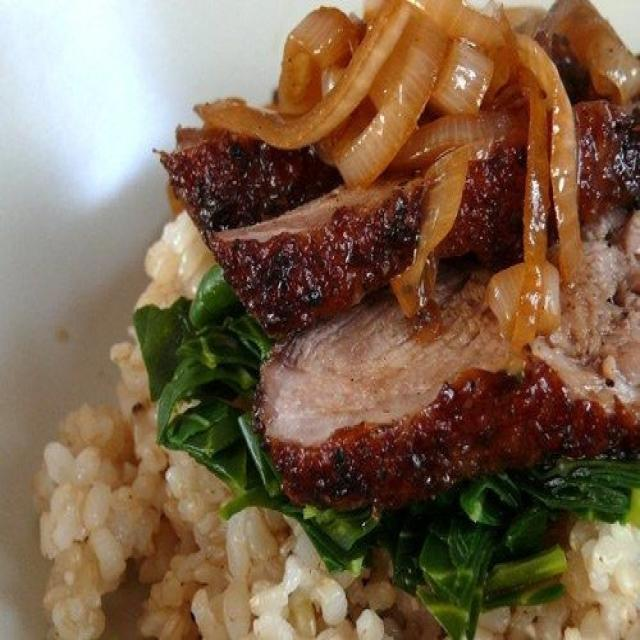米饭主食: (64, 15, 634, 608)
